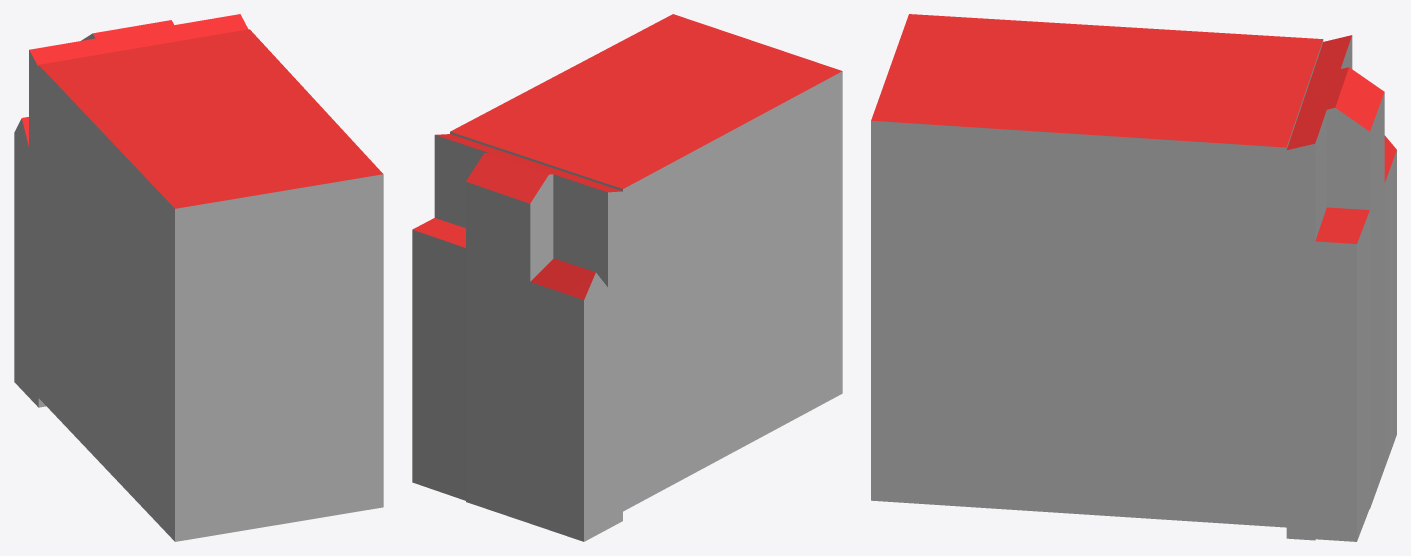
Rendered from DEBE3D04YY50000EFM.dae.
The picture shows the model from 3 angles, left to right: view 1: azimuth 30°, elevation 25°; view 2: azimuth 150°, elevation 25°; view 3: azimuth 270°, elevation 25°; orthographic projection. The views are drawn at different scales.
Bounding box in the file's own units: 16.62 × 26.73 × 22.4.
